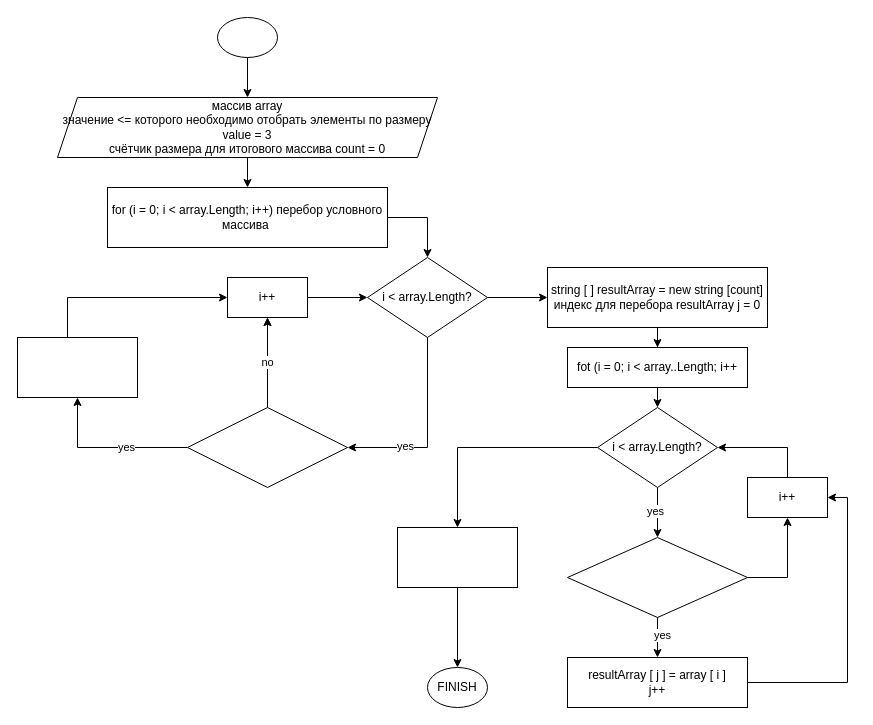
This 873x725 diagram has some shape labels left out. The centre of each missing label's shape, as x and y in pixels:
"array[ i ].Length <= value?" goes at pixel 267 447.
"array[i].Length <= value?" goes at pixel 657 577.
"count ++" goes at pixel 77 367.
"return resultArray" goes at pixel 457 557.
"START" goes at pixel 247 37.
